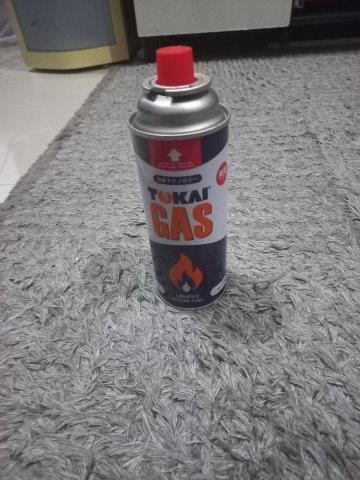kaleng: (128, 44, 232, 307)
